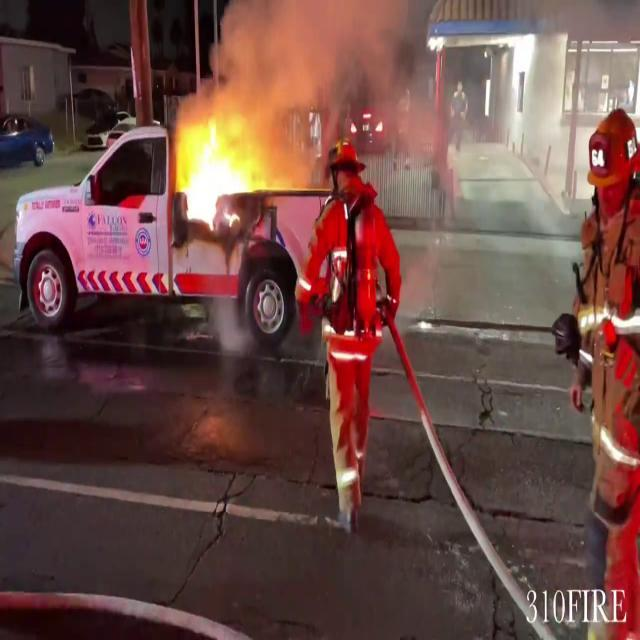Fire: (174, 104, 258, 238)
Smoke: (199, 0, 453, 201)
